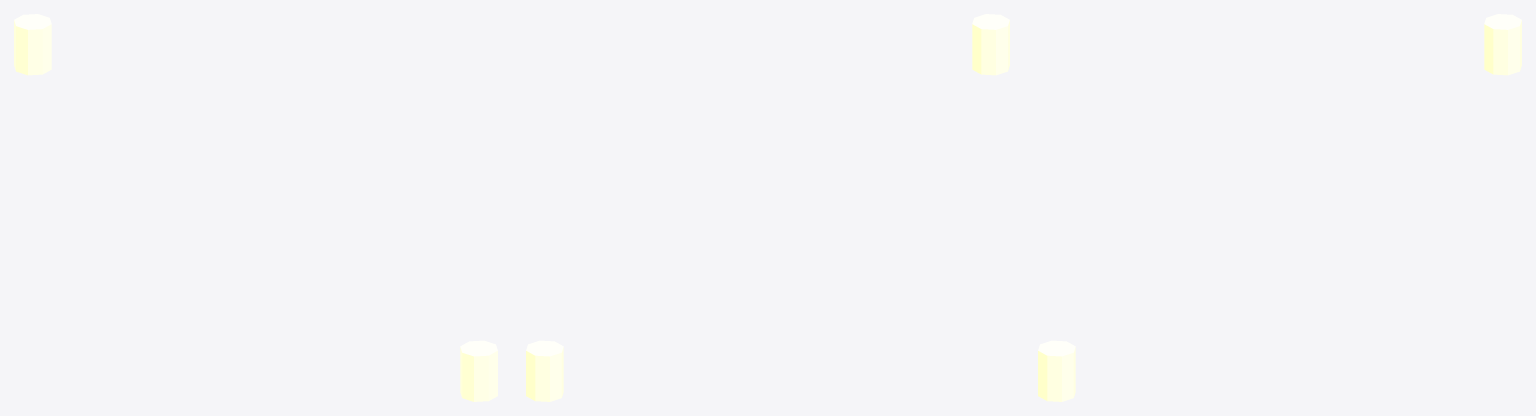
File: LoungeCandles.fbx
The picture shows the model from 3 angles, left to right: view 1: azimuth 30°, elevation 25°; view 2: azimuth 150°, elevation 25°; view 3: azimuth 330°, elevation 25°; orthographic projection.
Visible parts, largest first — view 1: Candle0.001; view 2: Candle0.001; view 3: Candle0.001.
Part boxes in pixels (left/top/right/bottom): Candle0.001: left=14, top=14, right=497, bottom=401; Candle0.001: left=526, top=14, right=1009, bottom=401; Candle0.001: left=1038, top=14, right=1521, bottom=401.
Size of the model in its own units: 70 by 90 by 1670.
